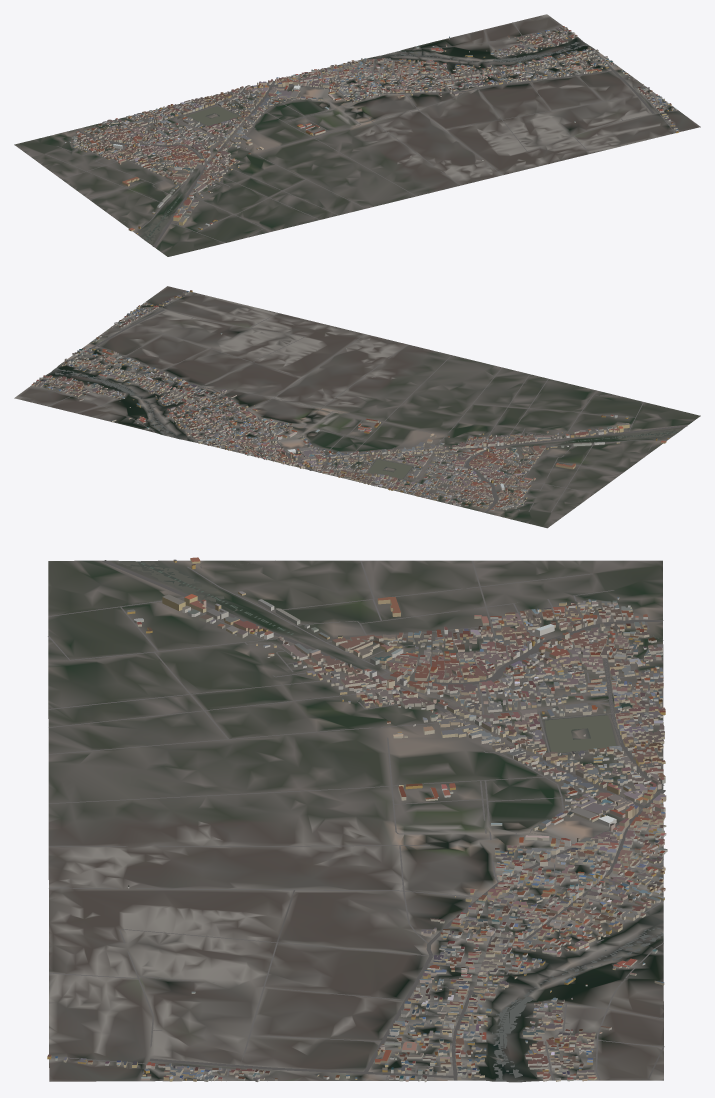
3 views of the same model, one above another, from view 1: azimuth 30°, elevation 25°; view 2: azimuth 150°, elevation 25°; view 3: azimuth 270°, elevation 25° (orthographic). The views are drawn at different scales.
Visible parts, largest first — view 1: ground, buildings, roads, water; view 2: ground, buildings, roads, water; view 3: ground, buildings, roads, water.
Boxes of the visible parts, x1,y1,x2,y2 form: ground: [14, 14, 700, 256]; buildings: [64, 26, 678, 233]; roads: [45, 17, 677, 246]; water: [142, 40, 588, 243]; ground: [14, 286, 700, 528]; buildings: [31, 290, 669, 510]; roads: [18, 292, 687, 512]; water: [49, 368, 681, 485]; ground: [48, 560, 663, 1082]; buildings: [47, 557, 667, 1082]; roads: [48, 560, 665, 1080]; water: [119, 561, 663, 1081].
Size of the model in its own units: 2822 by 28.77 by 1414.
